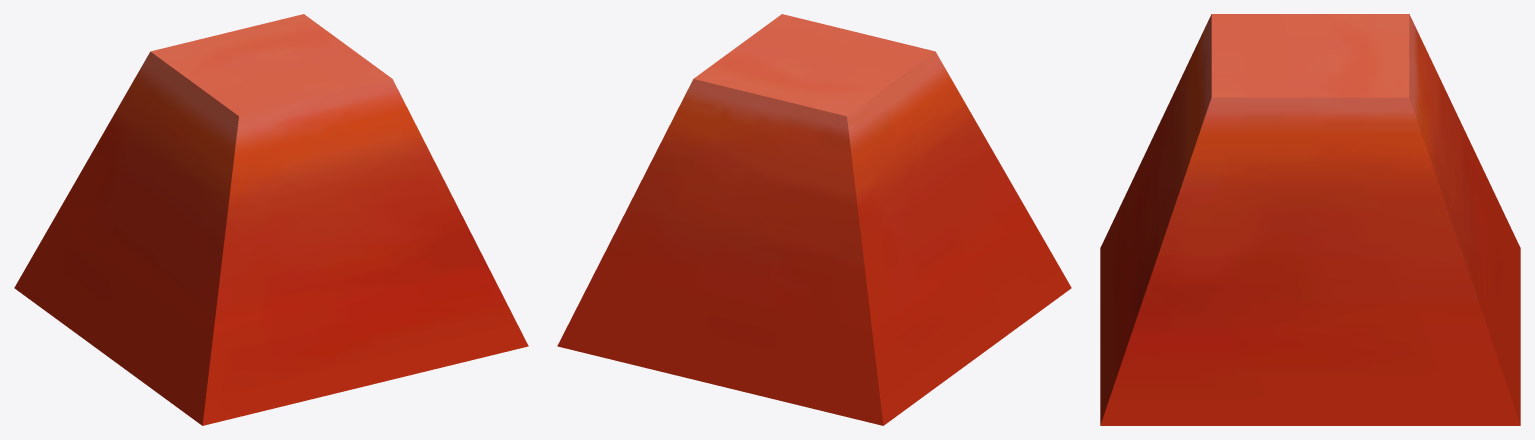
Rendered from Bottle_F_Liquid_Red.fbx.
3 renders of one model, left to right at view 1: azimuth 30°, elevation 25°; view 2: azimuth 150°, elevation 25°; view 3: azimuth 270°, elevation 25°, orthographic. The views are drawn at different scales.
Visible parts, largest first — view 1: Bottle_F_Liquid_Red; view 2: Bottle_F_Liquid_Red; view 3: Bottle_F_Liquid_Red.
Boxes of the visible parts, bbox=[...] form: Bottle_F_Liquid_Red: bbox=[14, 14, 528, 425]; Bottle_F_Liquid_Red: bbox=[557, 14, 1071, 425]; Bottle_F_Liquid_Red: bbox=[1100, 14, 1520, 425].
Size of the model in its own units: 0.4123 by 0.3044 by 0.4123.
